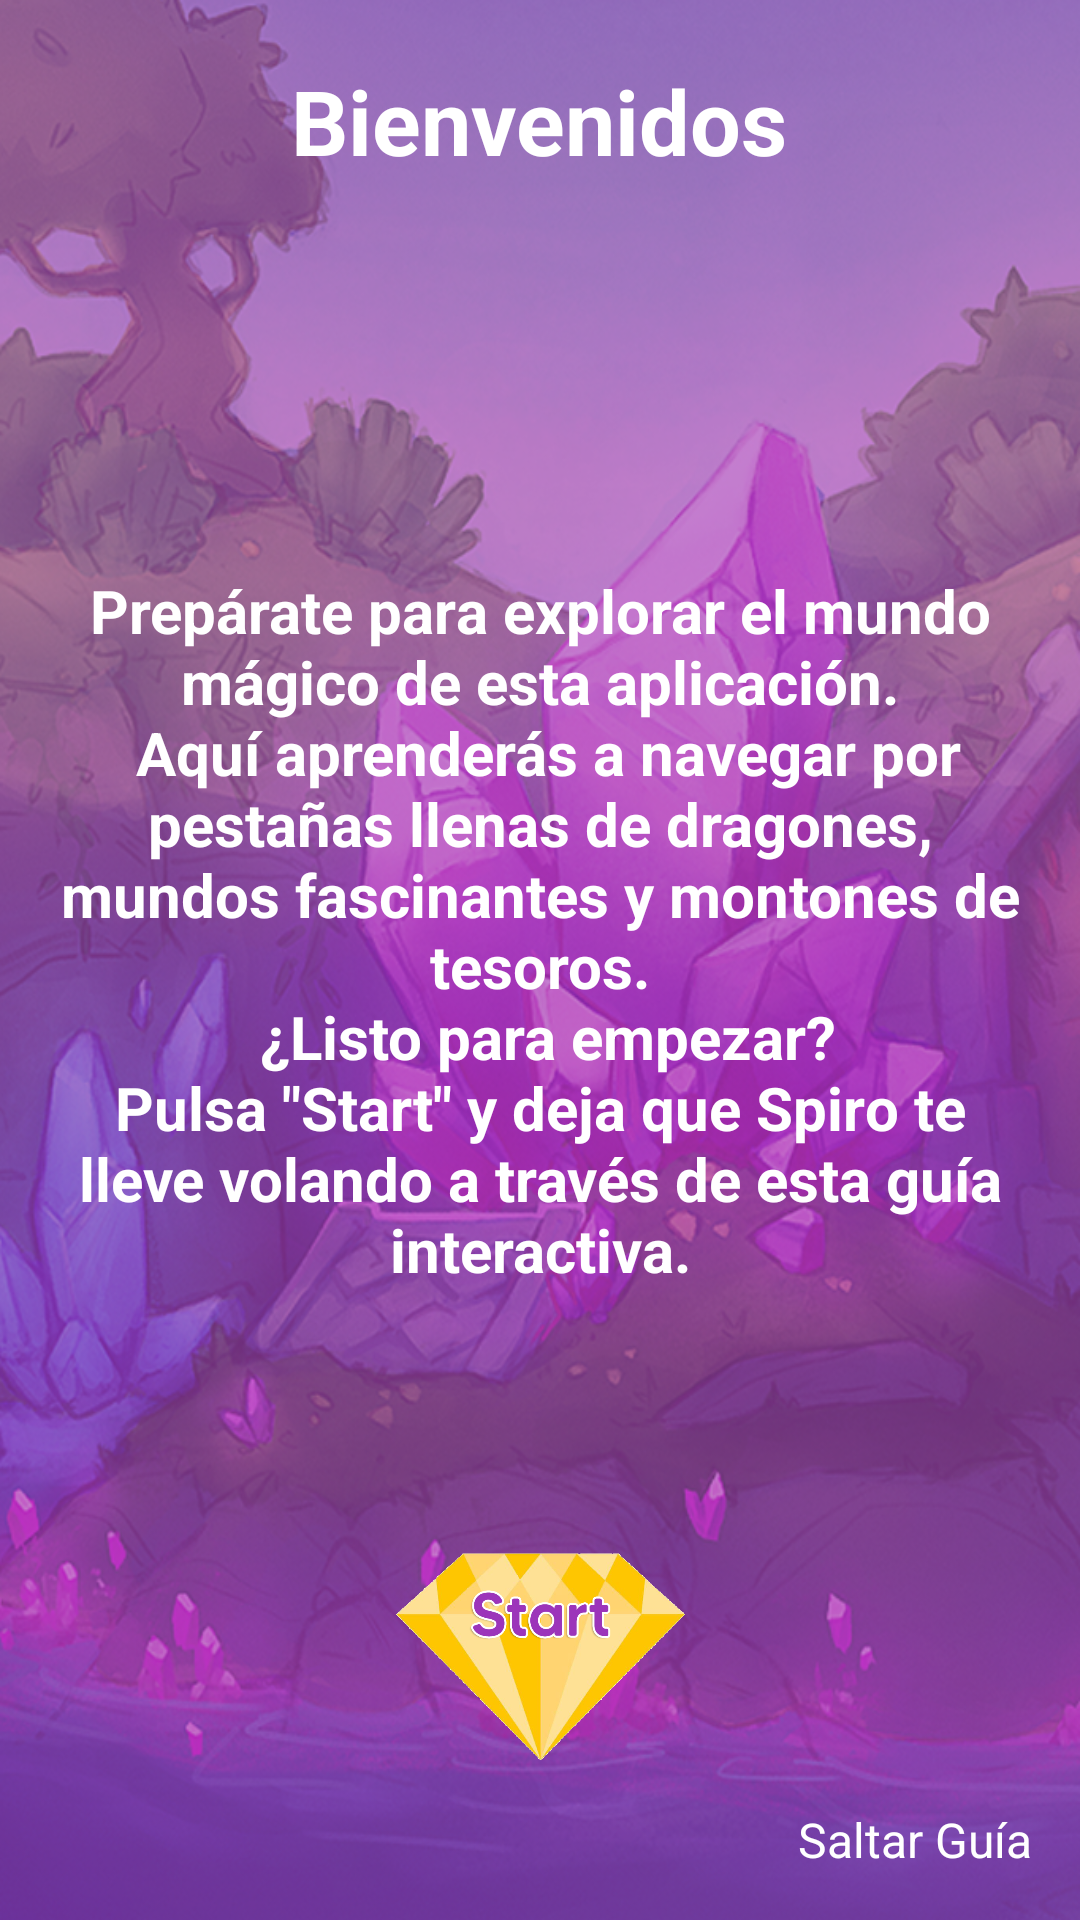

Icon bounding boxes for this 1080 × 1920 phone screenshot, format {"x1": x1, "y1": y1, "x2": x2, "y2": y2}:
gems: {"x1": 390, "y1": 1545, "x2": 690, "y2": 1770}
